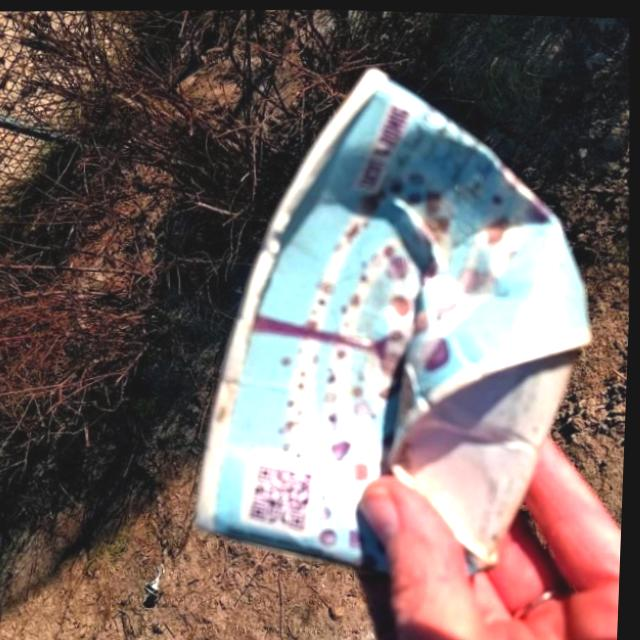Paper: (177, 49, 615, 592)
